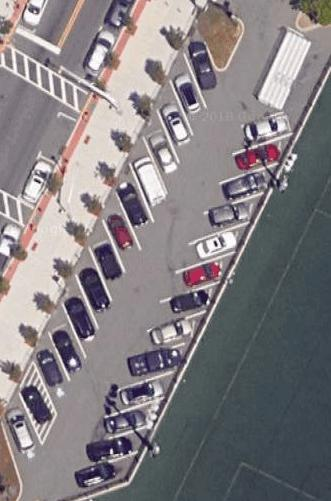parkingspot: (0, 15, 224, 477), (64, 109, 295, 500), (16, 110, 79, 210), (78, 0, 140, 79)
